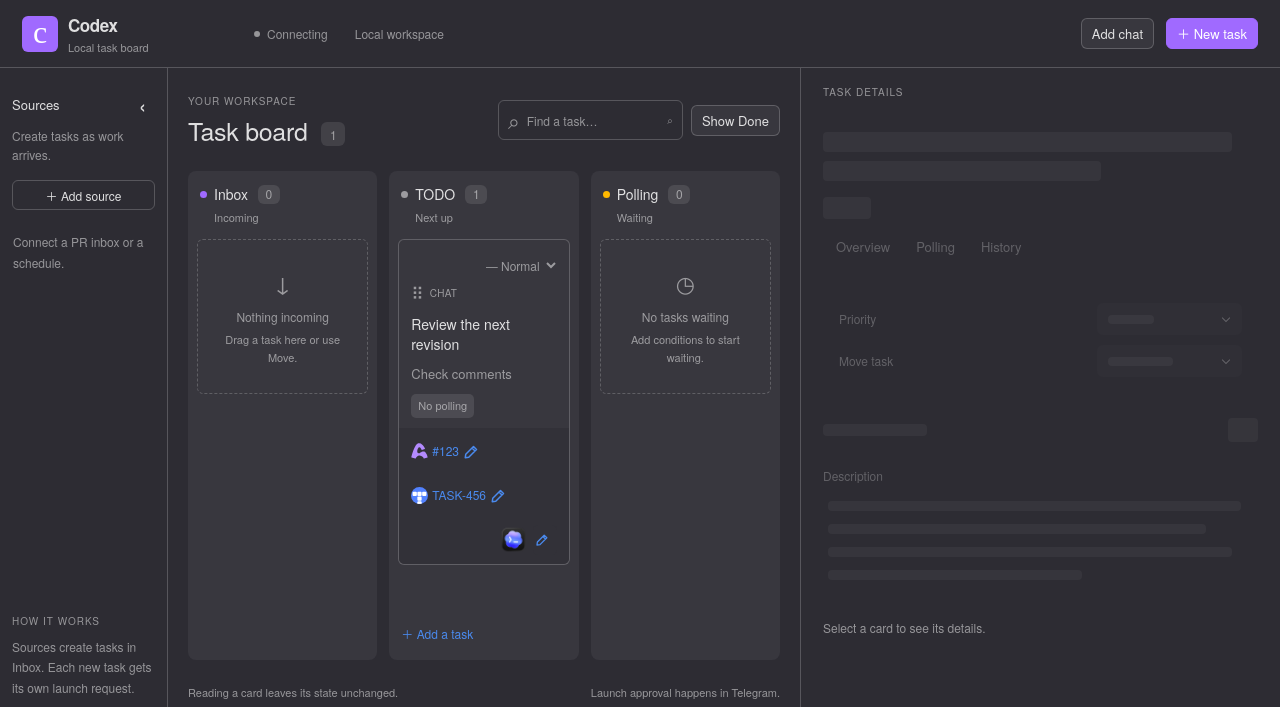
shows branded PR and ticket links in the compact footer without loading details
This screenshot has width=1280, height=707.
Expected: the picture with class "service-icon" next to "TASK-456" is shown, [411,487,428,504]
Click the button named "Edit ticket" at (502, 496), box [490,484,514,508]
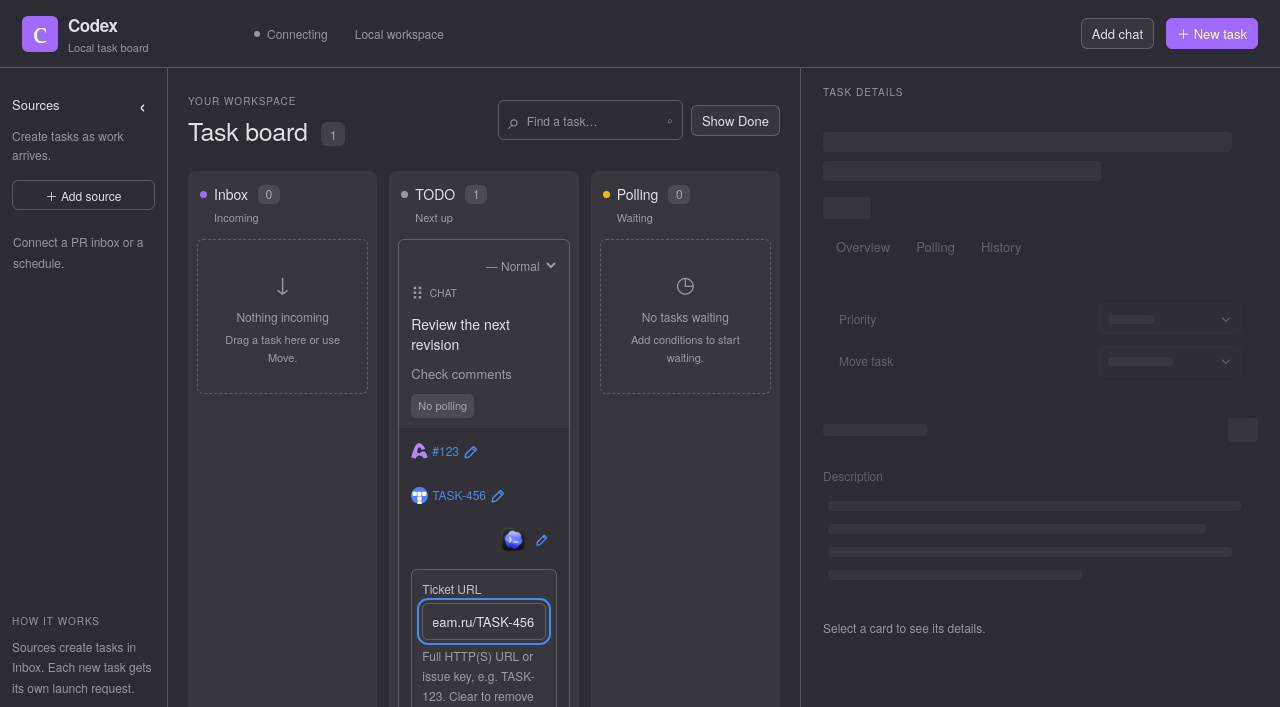
Replace the text in the field labelled "Ticket URL" with "TASK-789" at (484, 621), box [422,603,546,640]
(page scrolled)
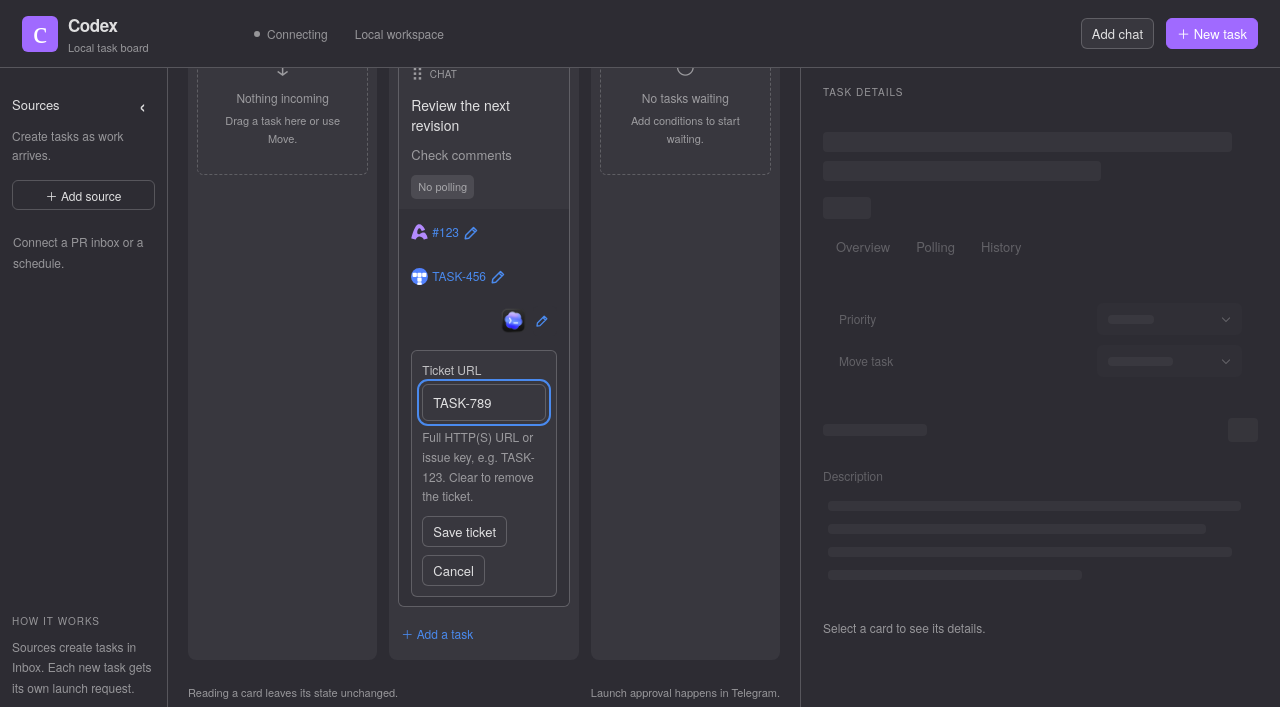
Click the button "Save ticket" at (465, 532), box [422,516,507,547]
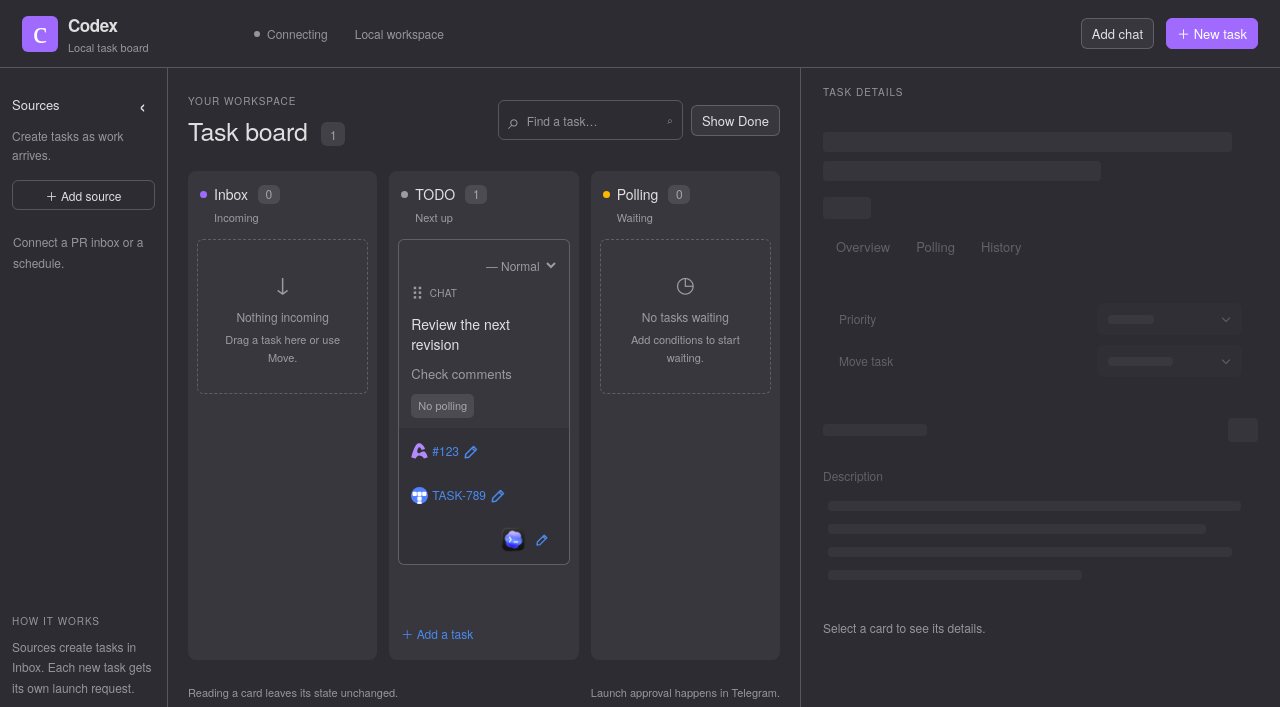
Expected: the link "TASK-789" is shown, [411,486,486,504]
